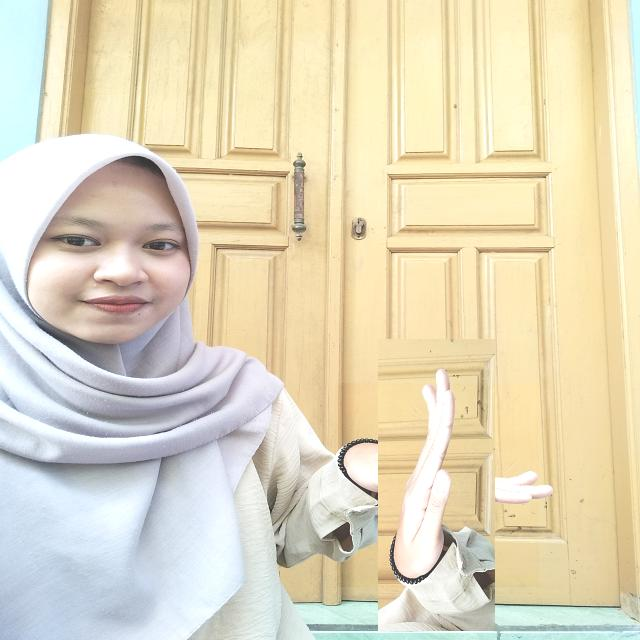adik: (335, 383, 539, 587)
